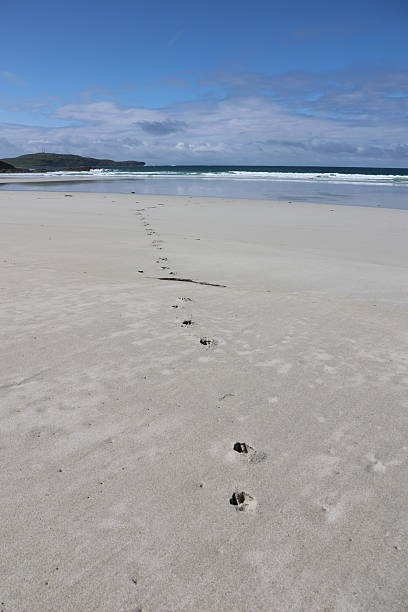animal_foot_print: (233, 442, 266, 462), (229, 491, 256, 511), (200, 337, 216, 346), (181, 318, 193, 326)
